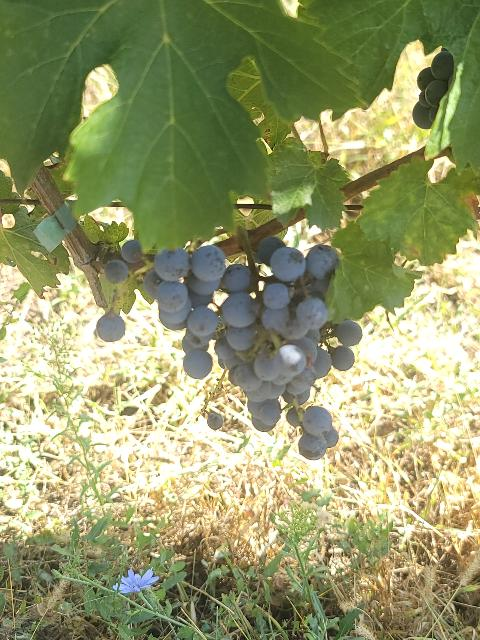grapes: (144, 238, 362, 460)
